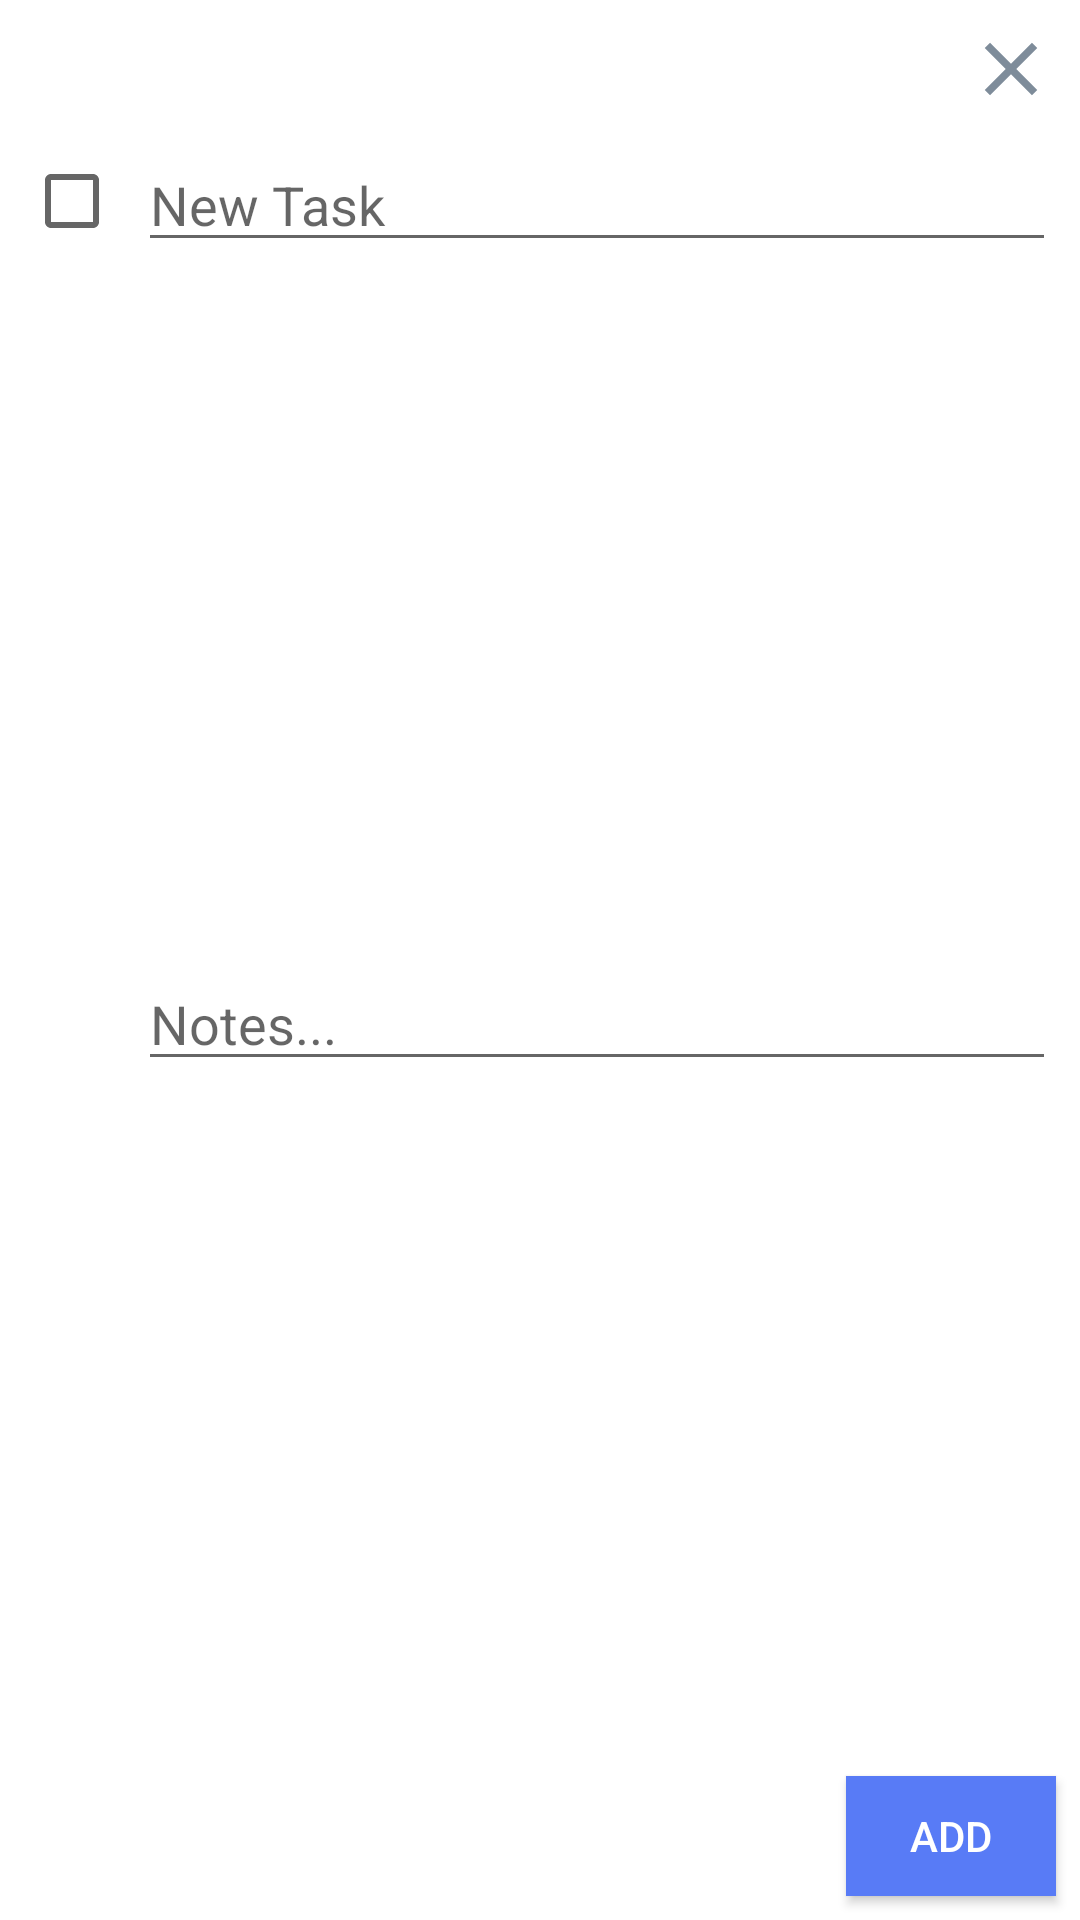

Named icons in this screenshot (1080w x 1920h) and their centers, (x=x, y=y):
cross: (x=1011, y=69)
